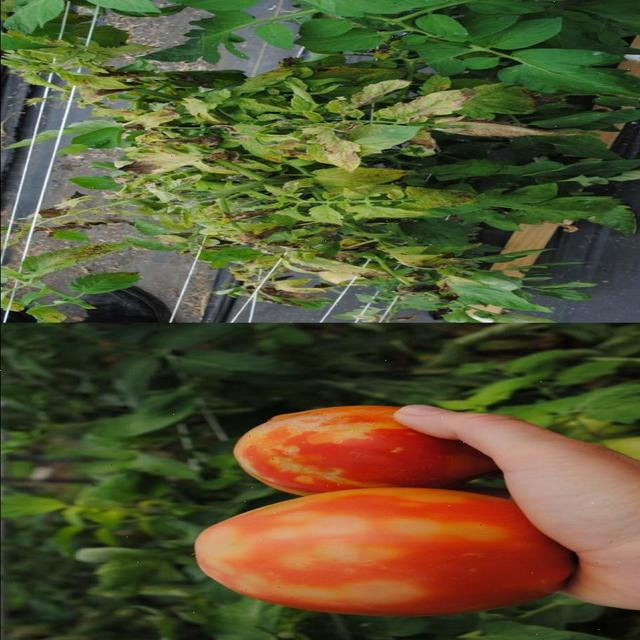Spotted wilt Virus Fruit: (185, 61, 258, 369)
